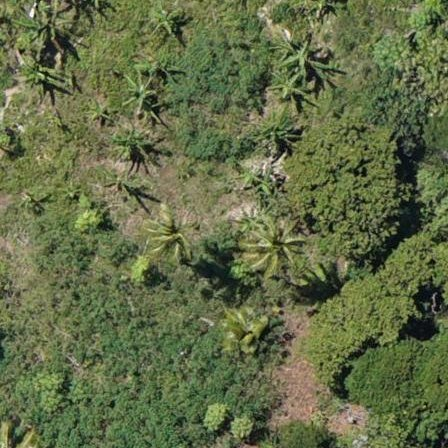palm_tree: (242, 213, 309, 285), (140, 203, 196, 260)
